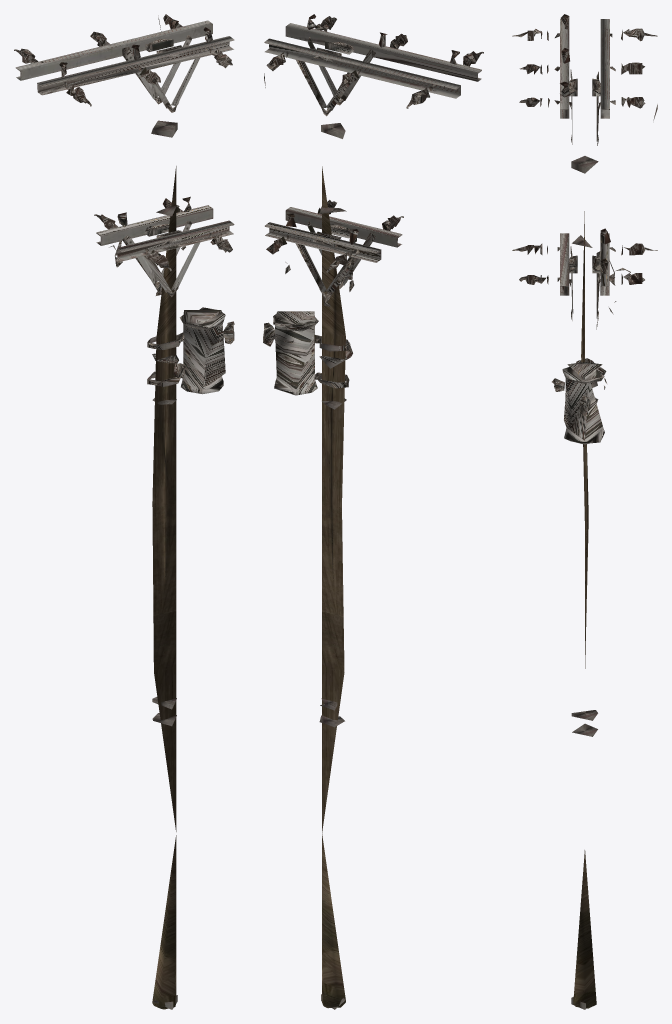
File: pole.glb
The picture shows the model from 3 angles, left to right: view 1: azimuth 30°, elevation 25°; view 2: azimuth 150°, elevation 25°; view 3: azimuth 270°, elevation 25°; orthographic projection. The views are drawn at different scales.
Visible parts, largest first — view 1: preset_03_bolt_small_01, preset_03_pole; view 2: preset_03_bolt_small_01, preset_03_pole; view 3: preset_03_bolt_small_01, preset_03_pole.
Part boxes in pixels (x1,y1,x2,y2): preset_03_bolt_small_01: [14, 14, 234, 1009]; preset_03_pole: [152, 166, 176, 1009]; preset_03_bolt_small_01: [263, 14, 483, 1009]; preset_03_pole: [322, 166, 345, 1008]; preset_03_bolt_small_01: [512, 14, 657, 1009]; preset_03_pole: [573, 211, 596, 1008].
Bounding box in the file's own units: 1.29 × 5.82 × 0.8194.
Materials: 2 (2 with a texture image).
